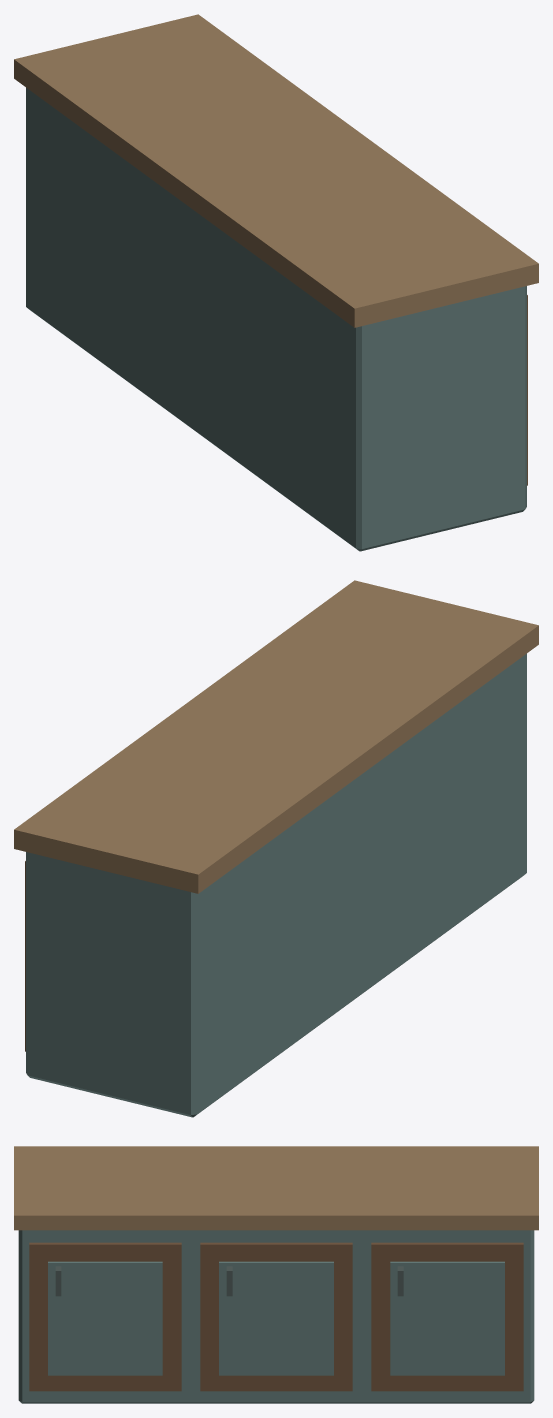
Rendered from home_chest.glb.
3 renders of one model, top to bottom at view 1: azimuth 30°, elevation 25°; view 2: azimuth 150°, elevation 25°; view 3: azimuth 270°, elevation 25°, orthographic. The views are drawn at different scales.
Visible parts, largest first — view 1: home_chest; view 2: home_chest; view 3: home_chest.
Boxes of the visible parts, box(x1,y1,x2,y2) form: home_chest: box(14, 14, 538, 551); home_chest: box(14, 580, 538, 1117); home_chest: box(14, 1146, 538, 1403).
Size of the model in its own units: 0.755 by 0.905 by 2.24.
